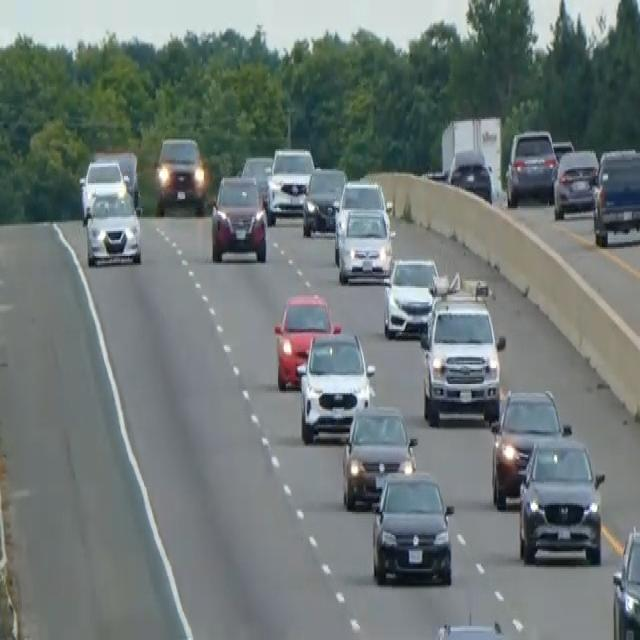car: (517, 432, 604, 565), (371, 467, 454, 585), (490, 386, 569, 508), (296, 327, 375, 443), (341, 404, 418, 508), (273, 290, 339, 389), (210, 173, 267, 263), (83, 183, 142, 267), (382, 254, 441, 338), (592, 146, 639, 247), (333, 178, 389, 261), (336, 205, 393, 282), (505, 128, 558, 206), (266, 146, 315, 222), (553, 146, 599, 218), (301, 166, 347, 237), (611, 524, 639, 638), (93, 148, 140, 212), (78, 156, 126, 218), (447, 146, 493, 202), (240, 153, 272, 208), (433, 619, 511, 638), (551, 138, 574, 162)
jeep: (418, 277, 506, 427), (154, 133, 208, 215)
truck: (437, 112, 503, 190)
